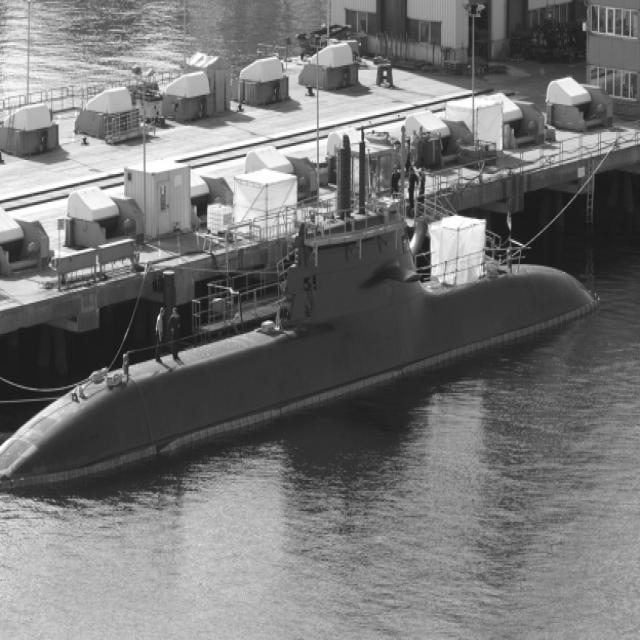submarine: (1, 174, 600, 486)
